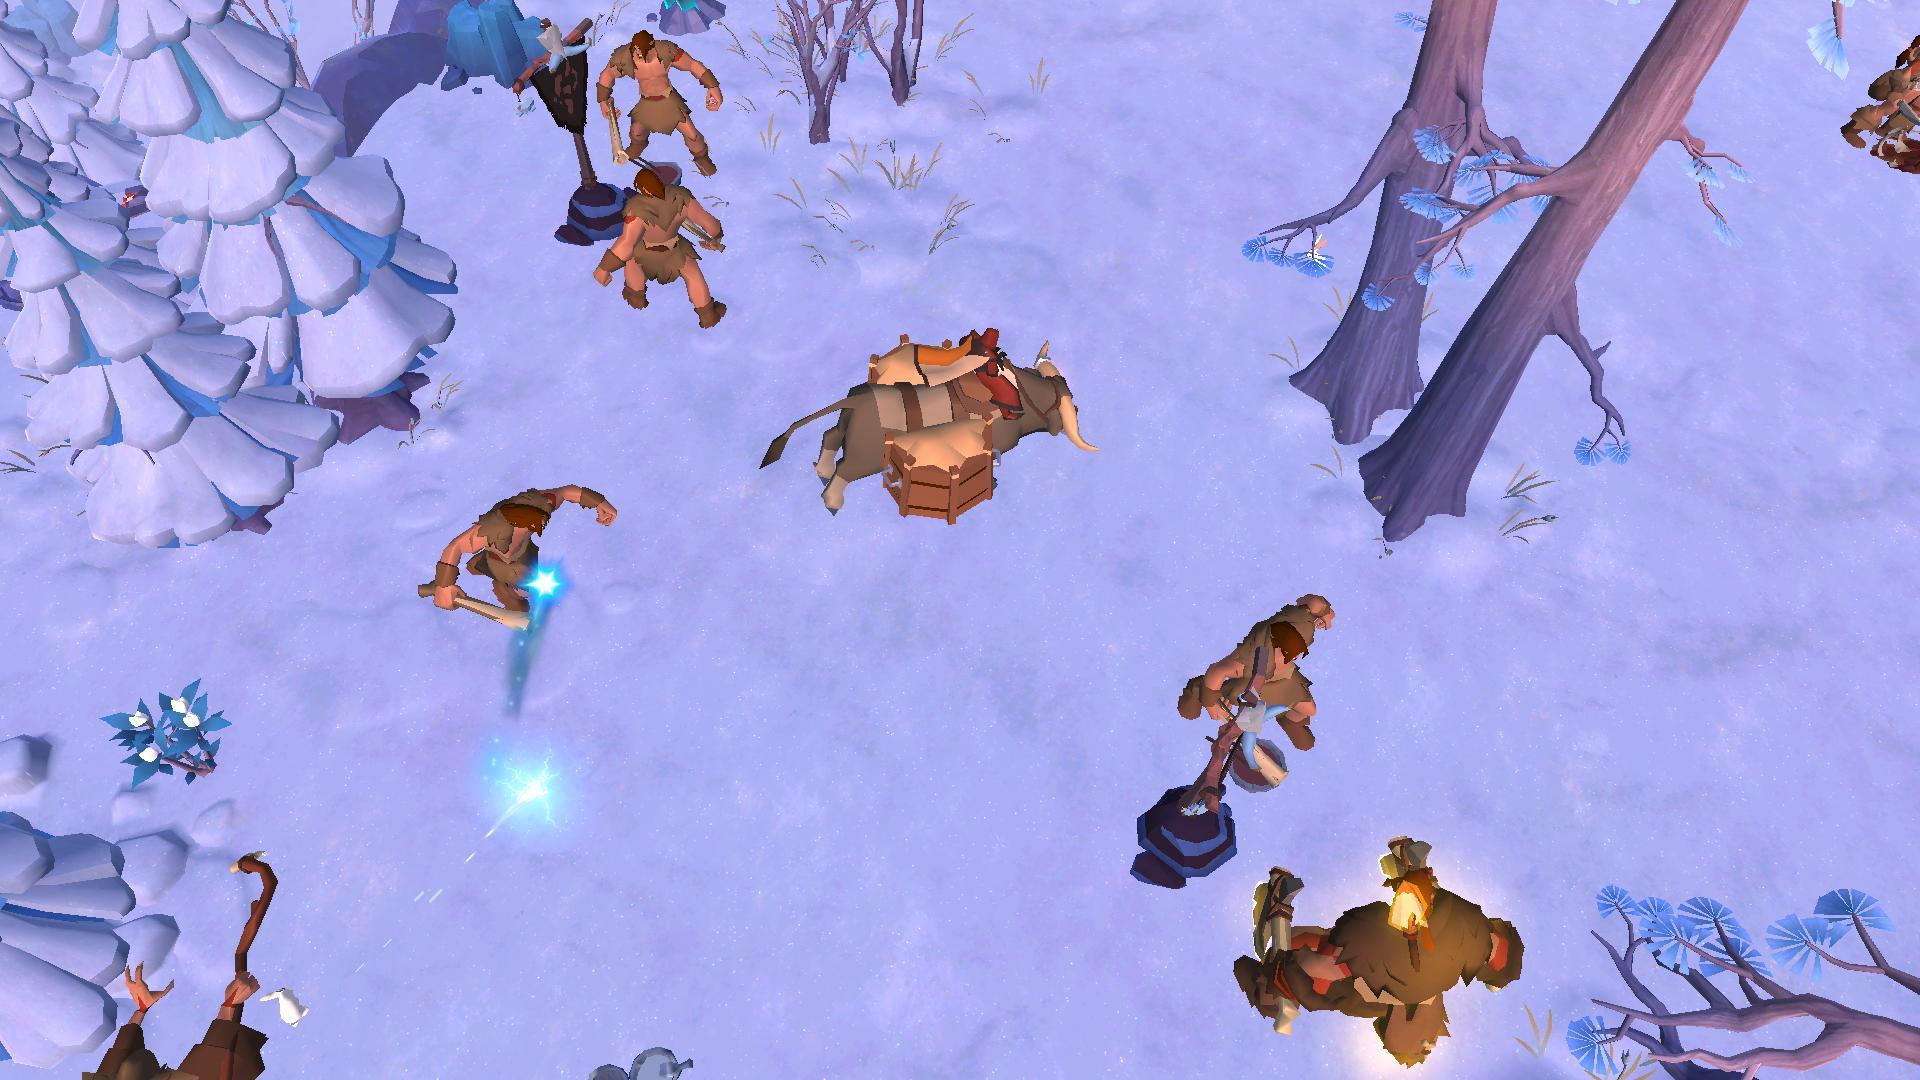enemy_factionKeeper: (1246, 833, 1523, 1073), (429, 481, 647, 642), (1174, 603, 1333, 757), (596, 167, 733, 334), (601, 24, 725, 175)
fiber_t4: (103, 684, 229, 795)
rock_t4: (415, 1, 574, 103)
